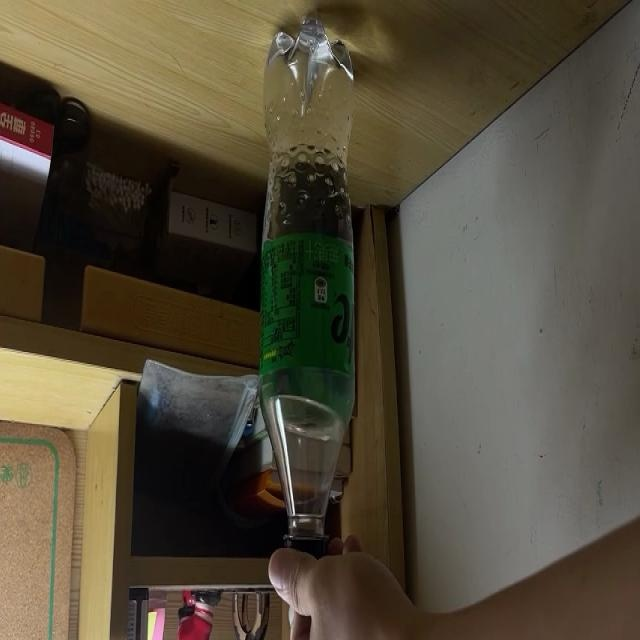Sprite: (258, 9, 355, 594)
